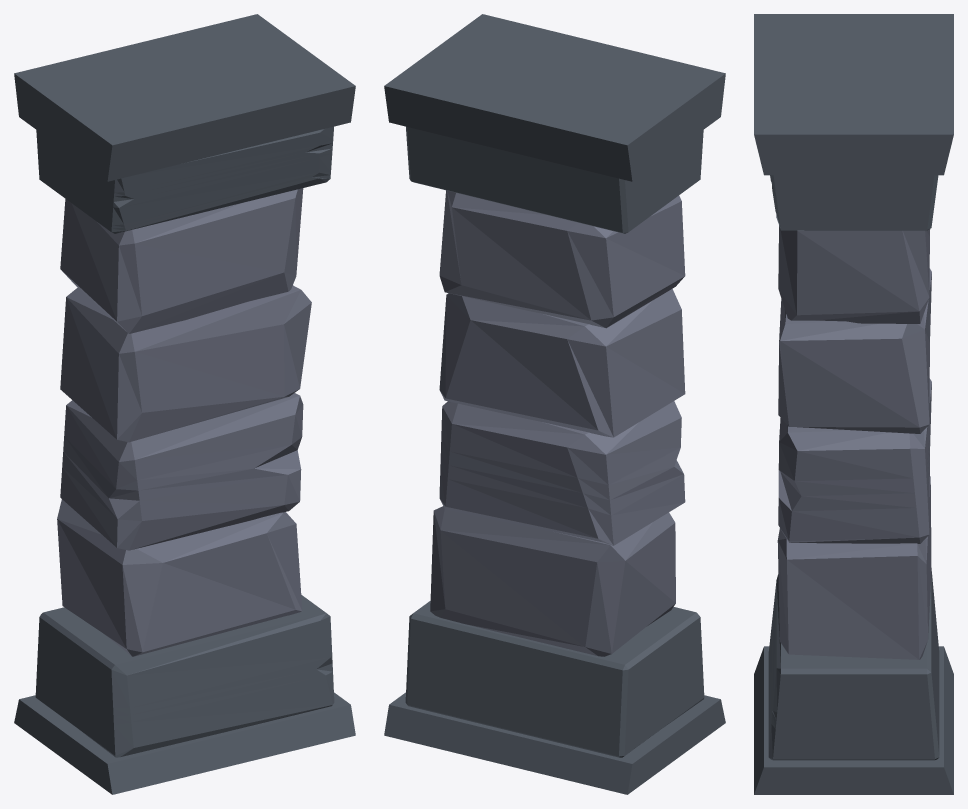
Rendered from Square_Column.glb.
The picture shows the model from 3 angles, left to right: view 1: azimuth 30°, elevation 25°; view 2: azimuth 150°, elevation 25°; view 3: azimuth 270°, elevation 25°; orthographic projection.
Parts seen in each view (by area): view 1: world; view 2: world; view 3: world.
Part boxes in pixels (<box>): world: <box>14,14,355,794</box>; world: <box>384,14,725,794</box>; world: <box>754,14,953,794</box>.
Bounding box in the file's own units: 200 × 510 × 140.
